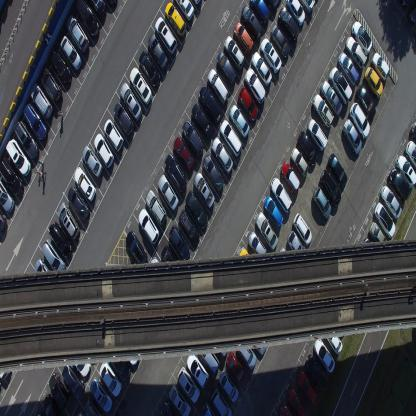car: (13, 120, 39, 160), (5, 138, 31, 176), (328, 65, 352, 105), (296, 368, 320, 408), (154, 15, 178, 55), (65, 14, 89, 54), (0, 156, 24, 196), (41, 238, 66, 276), (198, 85, 221, 126), (120, 81, 143, 122), (48, 221, 72, 260), (210, 135, 233, 175), (181, 119, 204, 159), (184, 189, 207, 229), (305, 353, 328, 393), (129, 66, 152, 106), (177, 366, 201, 404), (124, 229, 148, 267), (23, 102, 47, 140), (207, 66, 229, 107), (89, 376, 113, 413), (75, 0, 99, 37), (220, 118, 242, 158), (256, 210, 278, 250), (320, 79, 343, 117), (99, 359, 122, 397), (240, 4, 263, 42), (30, 82, 53, 120), (270, 175, 292, 214), (192, 171, 214, 210), (146, 33, 168, 72), (165, 0, 187, 39), (244, 66, 266, 105), (40, 65, 62, 104), (186, 352, 209, 389), (68, 341, 91, 378), (67, 185, 90, 222), (157, 171, 178, 211), (164, 152, 186, 190), (191, 103, 213, 141), (338, 50, 360, 88), (348, 101, 370, 139), (374, 200, 396, 238), (226, 351, 248, 389), (138, 207, 160, 245), (58, 201, 80, 239), (74, 166, 96, 204), (138, 50, 160, 88), (202, 154, 223, 193), (61, 364, 85, 398), (172, 135, 194, 172), (145, 189, 167, 226), (48, 372, 70, 409), (223, 35, 245, 72), (278, 6, 300, 43), (50, 47, 72, 84), (379, 184, 402, 219), (169, 223, 190, 261), (118, 328, 139, 366), (93, 132, 114, 170), (113, 101, 134, 139), (237, 85, 258, 123), (260, 37, 282, 73), (59, 35, 82, 69), (178, 207, 199, 244), (320, 168, 341, 205), (312, 93, 334, 128), (312, 338, 334, 373), (356, 82, 376, 120), (342, 118, 362, 156), (216, 50, 236, 88), (297, 130, 318, 166), (251, 51, 272, 87), (350, 20, 372, 54), (270, 22, 290, 59), (168, 383, 191, 415), (229, 104, 250, 139), (287, 230, 308, 265), (34, 256, 55, 291), (344, 35, 366, 68), (388, 167, 410, 200), (396, 153, 416, 189), (306, 118, 327, 152), (219, 370, 240, 404), (199, 340, 220, 374), (110, 346, 131, 380), (82, 145, 103, 179), (104, 118, 125, 152), (327, 152, 347, 187), (148, 256, 168, 291), (234, 21, 254, 56), (160, 245, 182, 276), (264, 194, 284, 228), (312, 185, 332, 219), (292, 211, 312, 244), (368, 220, 390, 250), (236, 246, 256, 278), (280, 160, 300, 192), (236, 338, 256, 370), (247, 230, 268, 260), (364, 66, 384, 97), (290, 146, 309, 178), (362, 236, 381, 268), (370, 51, 390, 80), (286, 386, 306, 415), (325, 323, 343, 355), (211, 388, 232, 415), (286, 0, 306, 28), (248, 326, 266, 357), (0, 179, 16, 213), (249, 0, 270, 25), (82, 396, 104, 415), (42, 394, 61, 416), (176, 0, 194, 23), (404, 139, 416, 173), (89, 0, 108, 19), (160, 400, 176, 415), (300, 0, 317, 14), (200, 401, 216, 415), (0, 208, 8, 233), (278, 402, 293, 415), (410, 120, 416, 145), (262, 0, 279, 8), (104, 0, 119, 6), (189, 0, 202, 6)
